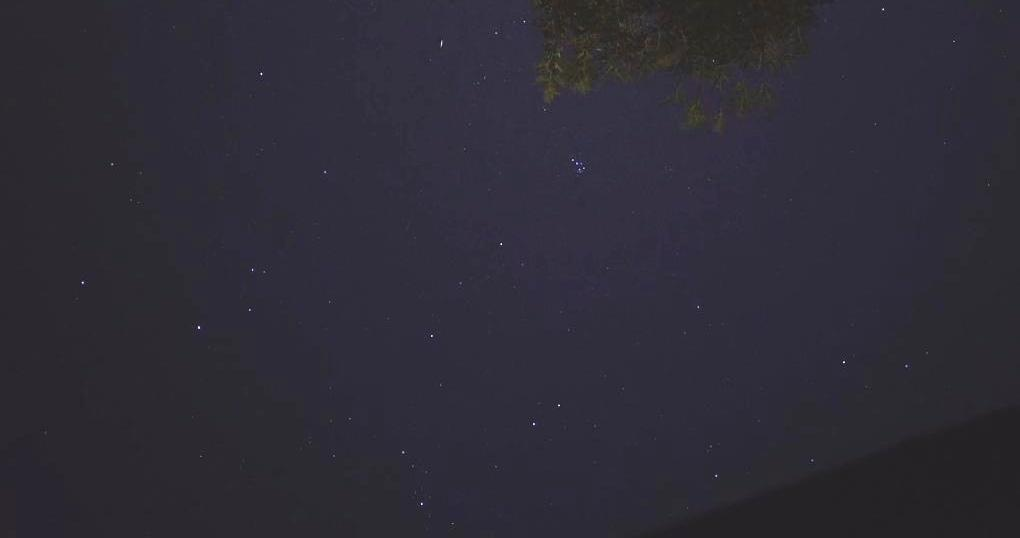meteorite: (428, 34, 453, 52)
